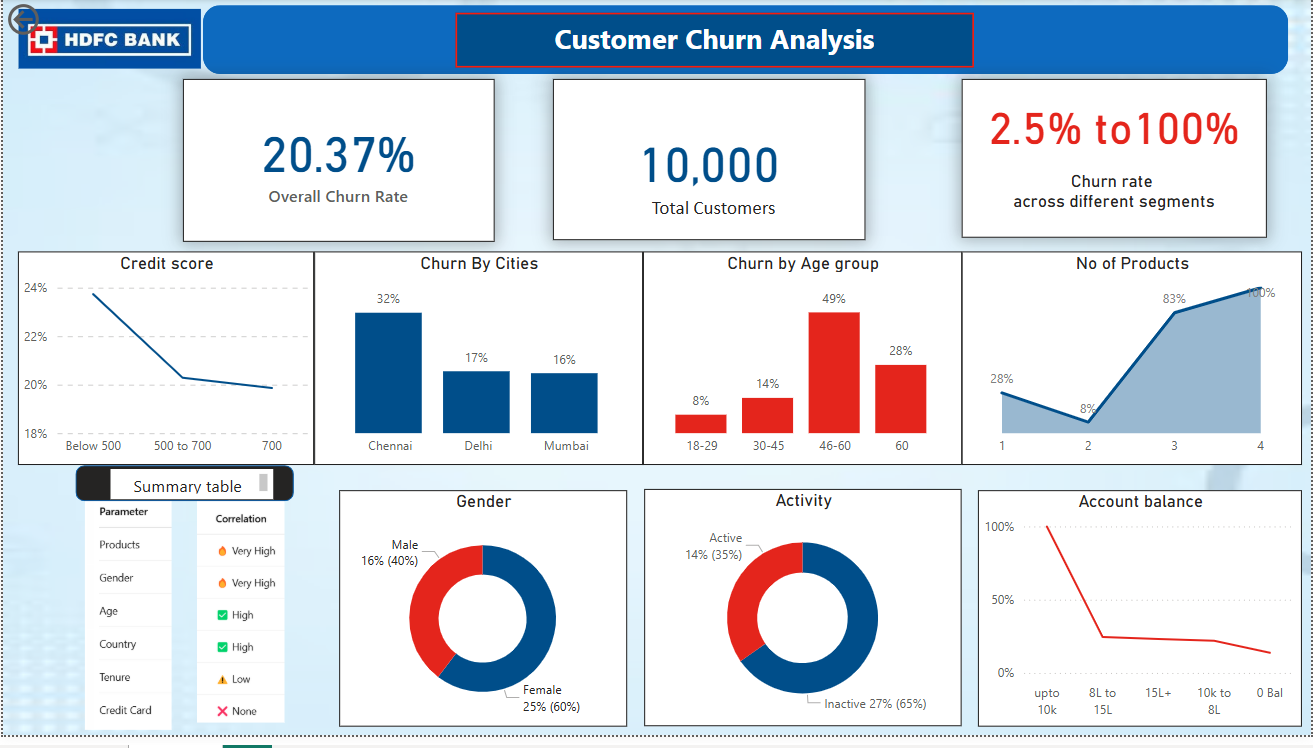

This screenshot's page, from the dashboard's own definition file:
{"tool":"powerbi","page":{"name":"Page 1","canvas":[1280,720],"ordinal":0},"visuals":[{"type":"shape","box":[195.7,6.1,1061.4,67.3],"z":0},{"type":"card","title":"Total Customers","fields":{"Values":["CountNonNull(Bank Customer Churn Prediction.customer_id)"]},"box":[538,77.9,305.7,157.7],"z":0,"group":"g2"},{"type":"card","title":"Total Customers","fields":{"Values":["Bank Customer Churn Prediction.Overall Churn R\\ate"]},"box":[176.1,78.3,304.5,159],"z":0,"group":"g1"},{"type":"group","id":"g1","title":"Group 1","box":[176.1,78.3,304.5,159],"z":1000},{"type":"textbox","box":[619.9,188,150.4,39.1],"z":1000,"group":"g2"},{"type":"group","id":"g2","title":"Group 1","box":[538,77.9,305.7,157.7],"z":2000},{"type":"image","box":[0,4.9,209.1,68.5],"z":3000},{"type":"textbox","box":[442.7,13.5,507.5,53.8],"z":4000},{"type":"textbox","box":[937.9,78.3,298.4,155.3],"z":5000},{"type":"columnChart","title":"Churn by Age group","fields":{"Category":["Bank Customer Churn Prediction.Age_Group"],"Y":["Bank Customer Churn Prediction.Overall Churn Rate"]},"box":[626.1,247,311.8,209.1],"z":6000},{"type":"donutChart","title":"Gender","fields":{"Category":["Bank Customer Churn Prediction.gender"],"Y":["Bank Customer Churn Prediction.Overall Churn Rate"]},"box":[328.9,480.6,281.3,231.1],"z":7000},{"type":"columnChart","title":"Churn By Cities","fields":{"Y":["Bank Customer Churn Prediction.Overall Churn Rate"],"Category":["Bank Customer Churn Prediction.country"]},"box":[304,247.3,321.6,209.1],"z":8000},{"type":"lineChart","title":" Credit score","fields":{"Y":["Bank Customer Churn Prediction.Overall Churn Rate"],"Category":["Bank Customer Churn Prediction.Credit score"]},"box":[14.7,247,289.8,209.1],"z":9000},{"type":"areaChart","title":"No of Products","fields":{"Y":["Bank Customer Churn Prediction.Overall Churn Rate"],"Category":["Bank Customer Churn Prediction.products_number"]},"box":[937.9,247,332.6,209.1],"z":10000},{"type":"donutChart","title":"Activity","fields":{"Y":["Bank Customer Churn Prediction.Overall Churn Rate"],"Category":["Bank Customer Churn Prediction.Activity"]},"box":[627.3,479.4,310.6,232.3],"z":11000},{"type":"lineChart","title":"Account balance","fields":{"Y":["Bank Customer Churn Prediction.Overall Churn Rate"],"Category":["Bank Customer Churn Prediction.Balance Quarter"]},"box":[953.8,480.6,316.7,231.1],"z":12000},{"type":"actionButton","box":[0,0,100,40],"z":13000},{"type":"image","box":[28.1,480.6,189.5,239.7],"z":14000},{"type":"image","box":[160.2,485.5,144.3,227.4],"z":15000},{"type":"shape","box":[70.9,456.1,214,35.5],"z":16000},{"type":"textbox","box":[105.2,459.8,159,29.3],"z":17000}]}

Visuals, with their boxes in screenshot pixels (x1, y1, x2, y2), scaled from the page's 1280x720 canvas onto the 1313x748 screenshot:
shape: <region>201, 6, 1290, 76</region>
"Total Customers" card: <region>552, 81, 865, 245</region>
"Total Customers" card: <region>181, 81, 493, 247</region>
"Group 1" group: <region>181, 81, 493, 247</region>
textbox: <region>636, 195, 790, 236</region>
"Group 1" group: <region>552, 81, 865, 245</region>
image: <region>0, 5, 214, 76</region>
textbox: <region>454, 14, 975, 70</region>
textbox: <region>962, 81, 1268, 243</region>
"Churn by Age group" columnChart: <region>642, 257, 962, 474</region>
"Gender" donutChart: <region>337, 499, 626, 739</region>
"Churn By Cities" columnChart: <region>312, 257, 642, 474</region>
" Credit score" lineChart: <region>15, 257, 312, 474</region>
"No of Products" areaChart: <region>962, 257, 1303, 474</region>
"Activity" donutChart: <region>643, 498, 962, 739</region>
"Account balance" lineChart: <region>978, 499, 1303, 739</region>
actionButton: <region>0, 0, 103, 42</region>
image: <region>29, 499, 223, 747</region>
image: <region>164, 504, 312, 741</region>
shape: <region>73, 474, 292, 511</region>
textbox: <region>108, 478, 271, 508</region>
